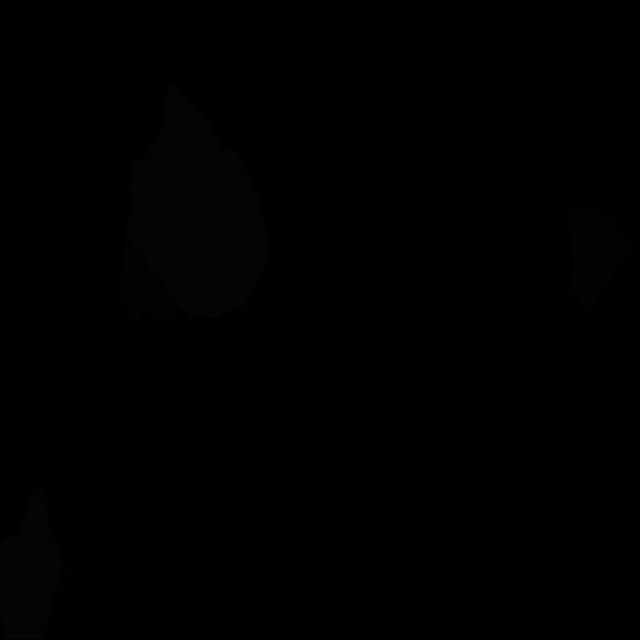cardboard: (567, 205, 634, 308), (118, 233, 175, 321)
soft_plastic: (126, 84, 268, 317), (0, 486, 70, 639)
